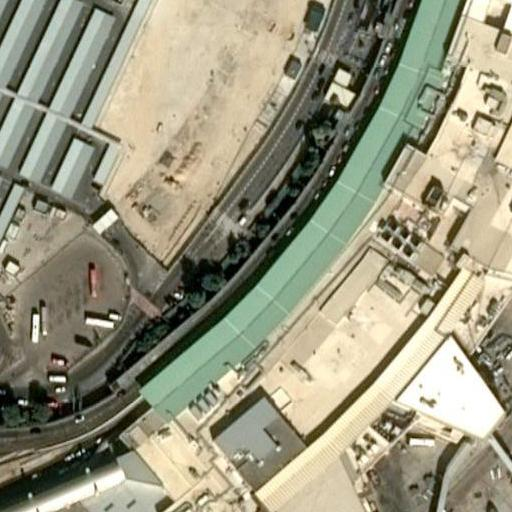Aircraft: (443, 510, 512, 512)
